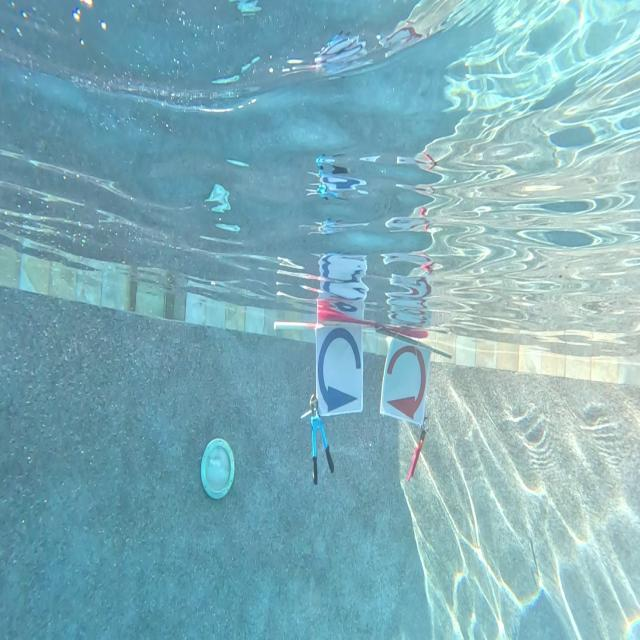blue_side: (315, 320, 366, 412)
red_side: (379, 336, 433, 430)
